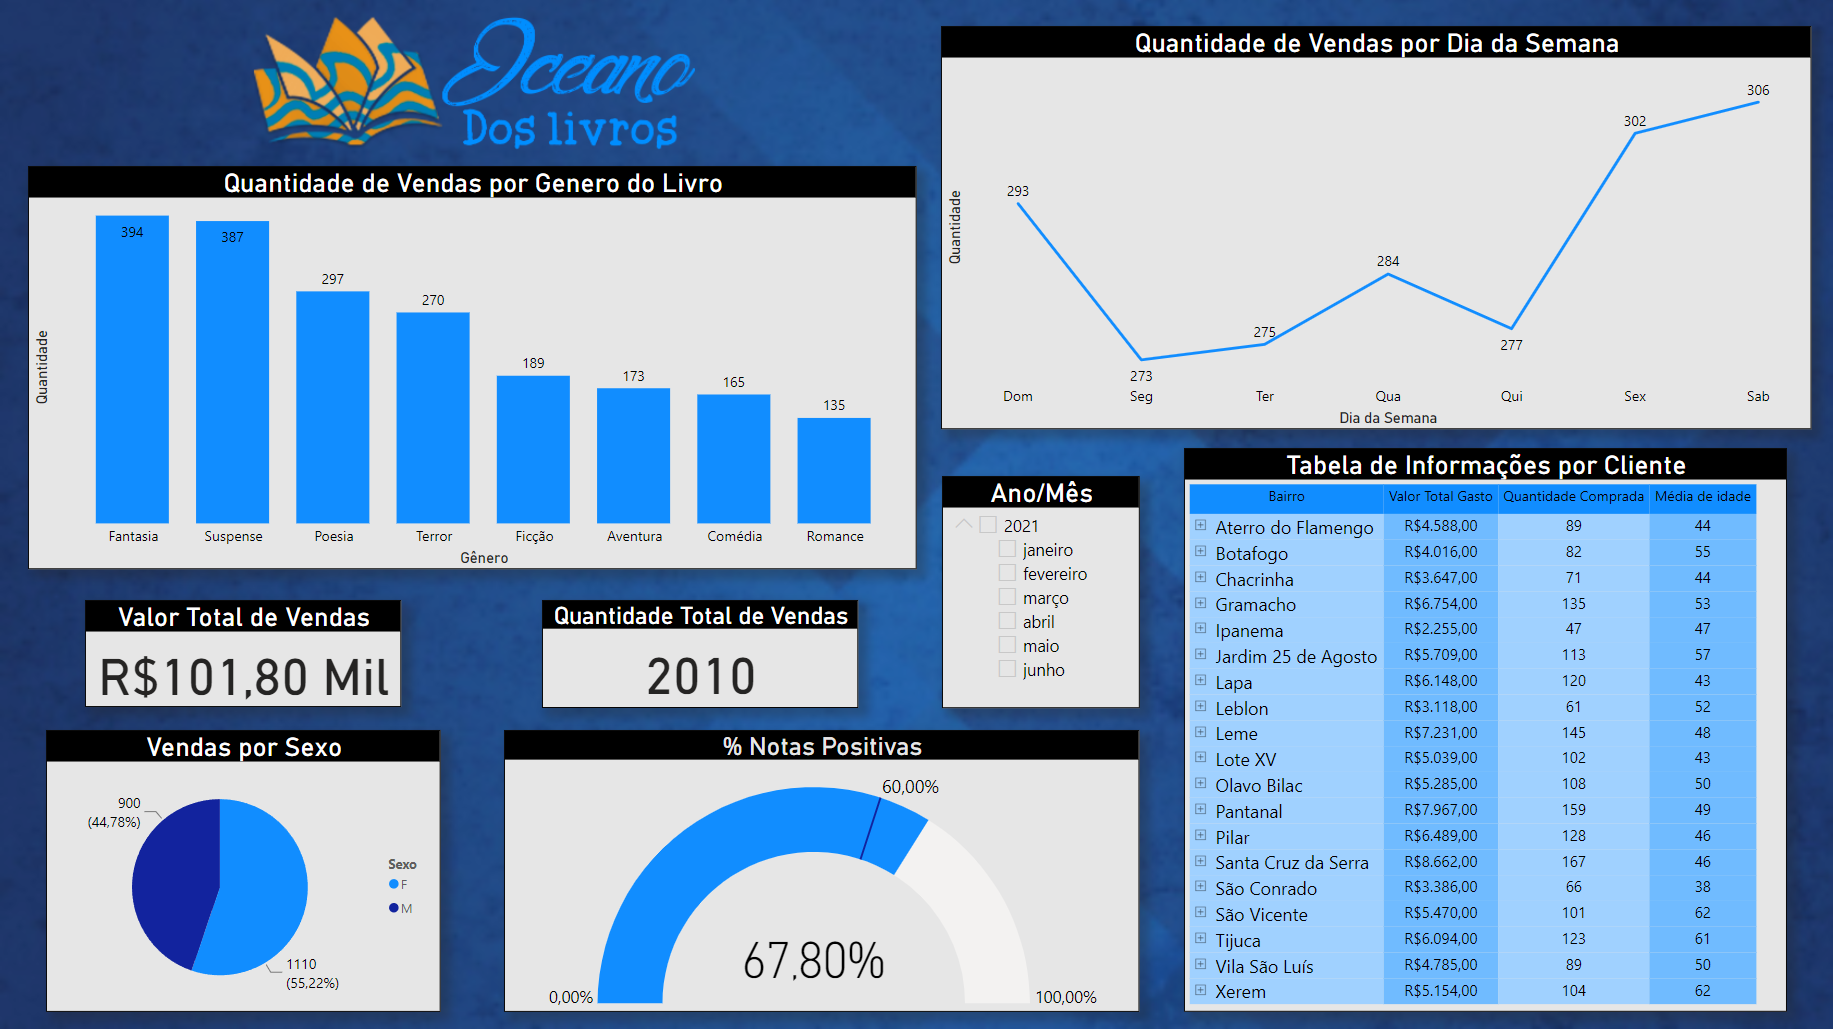

Layout of this report page (visuals, bound fields, positions):
{"tool":"powerbi","page":{"name":"Página 1","canvas":[1920,1080],"ordinal":0},"visuals":[{"type":"gauge","title":"% Notas Positivas","fields":{"Y":["public dm_avaliacao.% Notas positivas"]},"box":[528.8,764.2,664.6,294.7],"z":0},{"type":"columnChart","title":"Quantidade de Vendas por Genero do Livro","fields":{"Category":["public dm_livro.genero"],"Y":["Sum(public ft_venda.dd_quantidade)"]},"box":[30,173.3,930.2,422.1],"z":1000},{"type":"pivotTable","title":"Tabela de Informações  por Cliente","fields":{"Rows":["public dm_cliente.bairro","public dm_cliente.nome"],"Values":["Sum(public ft_venda.md_valor_total)","Sum(public ft_venda.dd_quantidade)","Avg(public dm_cliente.idade)"]},"box":[1240,468.8,630.8,590.3],"z":2000},{"type":"card","title":"Valor Total de Vendas","fields":{"Values":["Sum(public ft_venda.md_valor_total)"]},"box":[89.9,627.9,330.9,112],"z":3000},{"type":"card","title":"Quantidade Total de Vendas","fields":{"Values":["Sum(public ft_venda.dd_quantidade)"]},"box":[568,627.9,330.9,113.3],"z":4000},{"type":"lineChart","title":"Quantidade de Vendas por Dia da Semana","fields":{"Y":["Sum(public ft_venda.dd_quantidade)"],"Category":["public dim_data.nm_dia_sem_abreviado"]},"box":[986.2,27.5,911.3,422],"z":5000},{"type":"pieChart","title":"Vendas por Sexo","fields":{"Y":["Sum(public ft_venda.dd_quantidade)"],"Category":["public dm_cliente.sexo"]},"box":[49.1,764.2,413.2,294.7],"z":6000},{"type":"slicer","title":"Ano/Mês","fields":{"Values":["public dim_data.nk_data.Variation.Hierarquia de datas.Ano","public dim_data.nk_data.Variation.Hierarquia de datas.Mês"]},"box":[986.8,497.7,206.9,243.1],"z":7000},{"type":"image","box":[30,11.7,930.2,149.8],"z":8000}]}

Visuals, with their boxes in screenshot pixels (x1, y1, x2, y2), scaled from the page's 1920x1080 canvas onto the 1833x1029 screenshot:
"% Notas Positivas" gauge: [left=505, top=728, right=1139, bottom=1009]
"Quantidade de Vendas por Genero do Livro" columnChart: [left=29, top=165, right=917, bottom=567]
"Tabela de Informações  por Cliente" pivotTable: [left=1184, top=447, right=1786, bottom=1009]
"Valor Total de Vendas" card: [left=86, top=598, right=402, bottom=705]
"Quantidade Total de Vendas" card: [left=542, top=598, right=858, bottom=706]
"Quantidade de Vendas por Dia da Semana" lineChart: [left=942, top=26, right=1812, bottom=428]
"Vendas por Sexo" pieChart: [left=47, top=728, right=441, bottom=1009]
"Ano/Mês" slicer: [left=942, top=474, right=1140, bottom=706]
image: [left=29, top=11, right=917, bottom=154]
